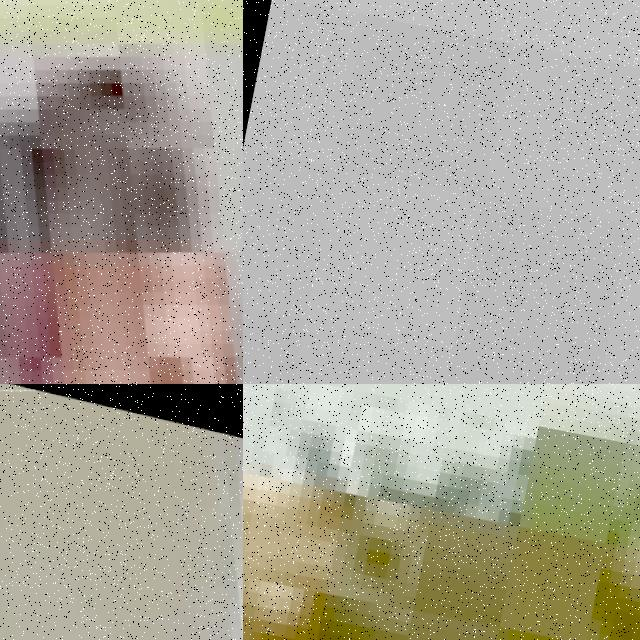0: (0, 0, 243, 384)
drone: (0, 384, 243, 640)
